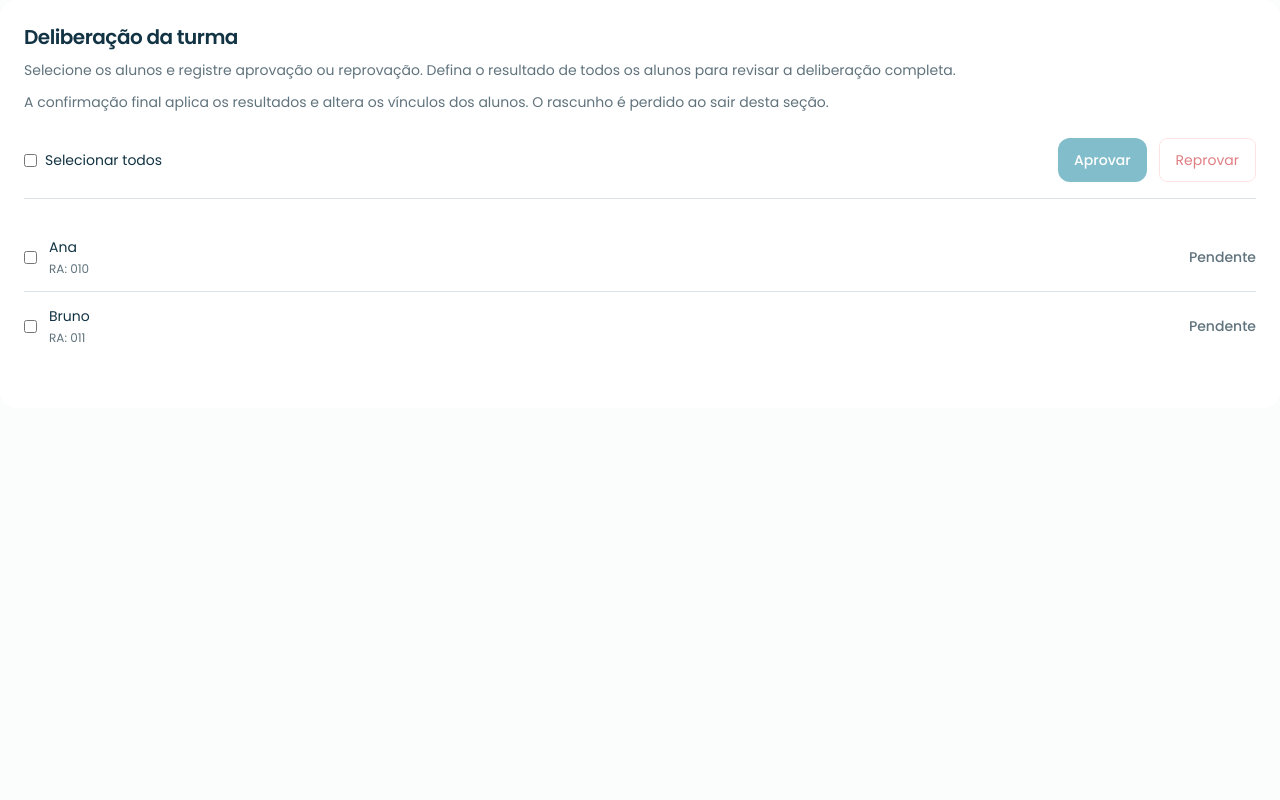
Scenario: lista destinos sem schoolId no contrato da API (both)
The width and height of the screenshot is (1280, 800).
Click the checkbox labelled "Selecionar todos" at (30, 160), box top-left (24, 154), bottom-right (37, 166)
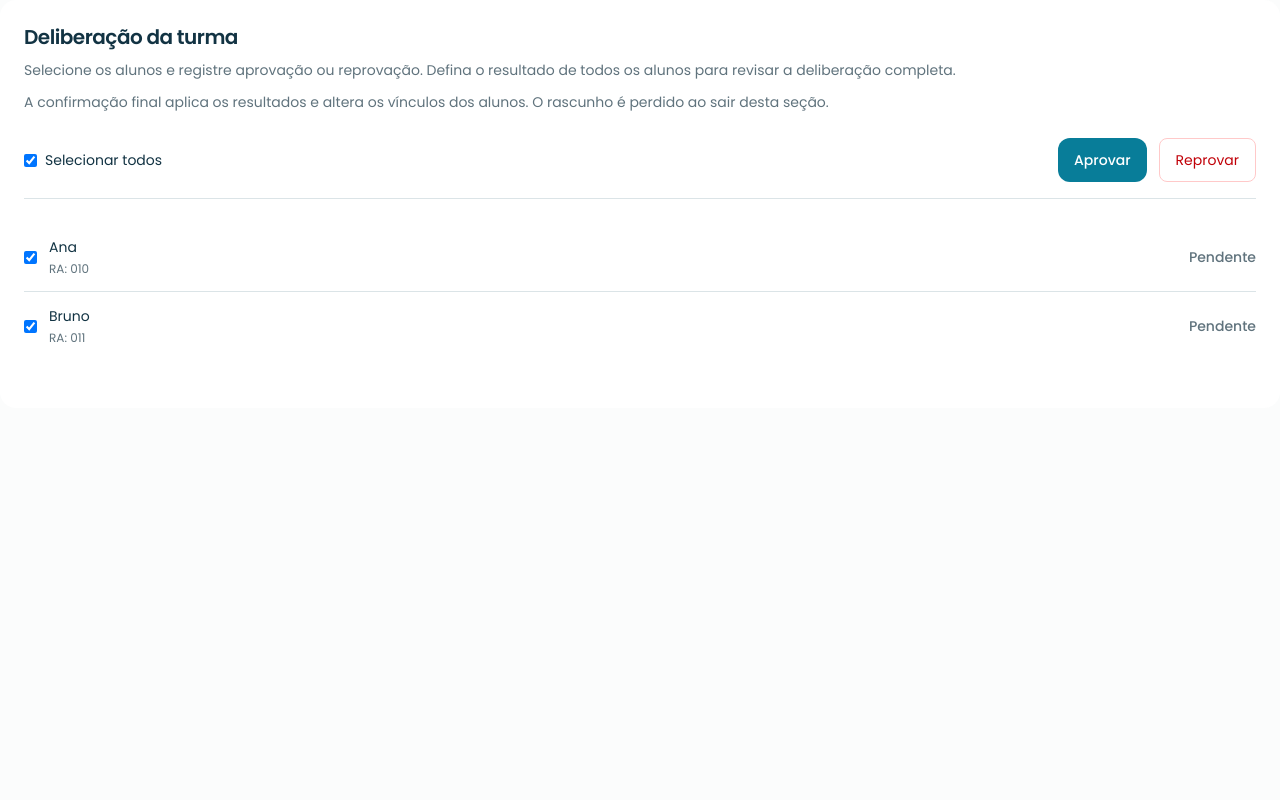
Click the button "Reprovar" at (1207, 160), box top-left (1159, 138), bottom-right (1256, 182)
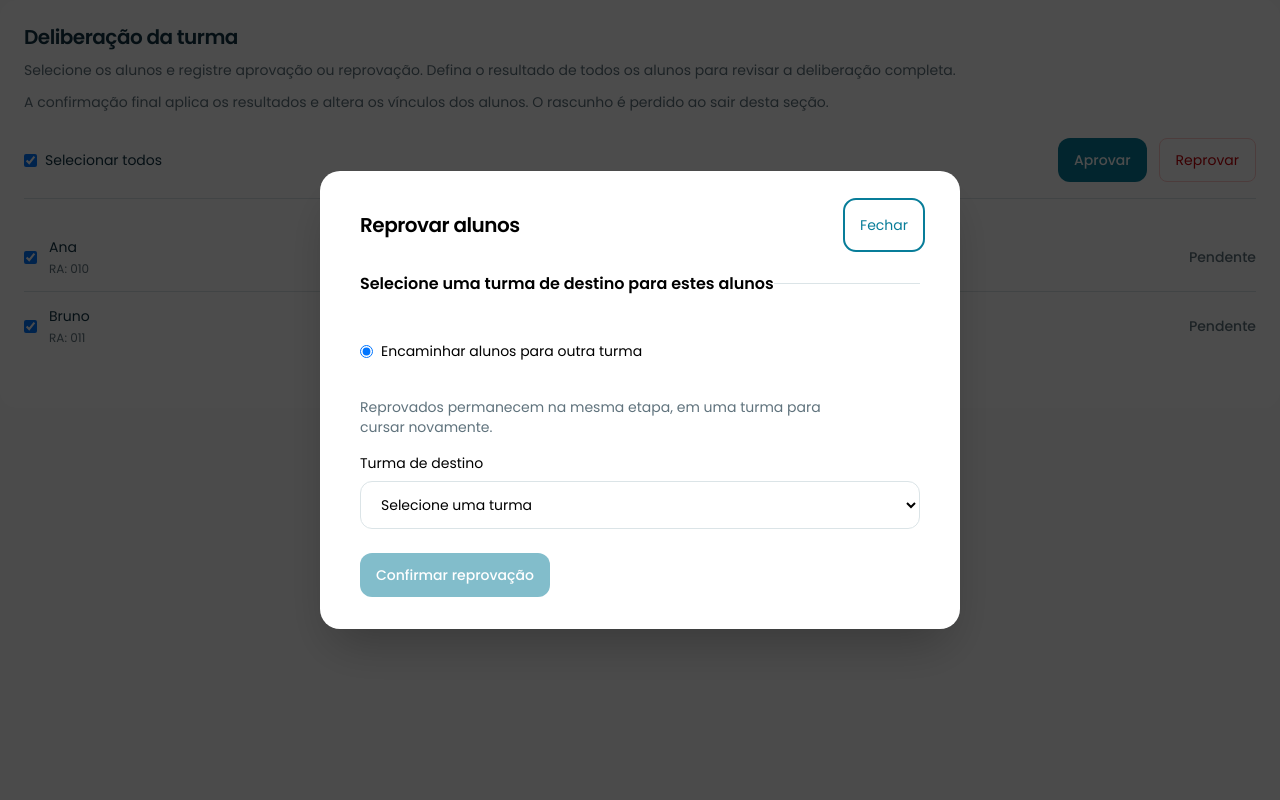
Select "2º ano · A" in the dropdown labelled "Turma de destino" at (640, 505), box top-left (360, 481), bottom-right (920, 529)
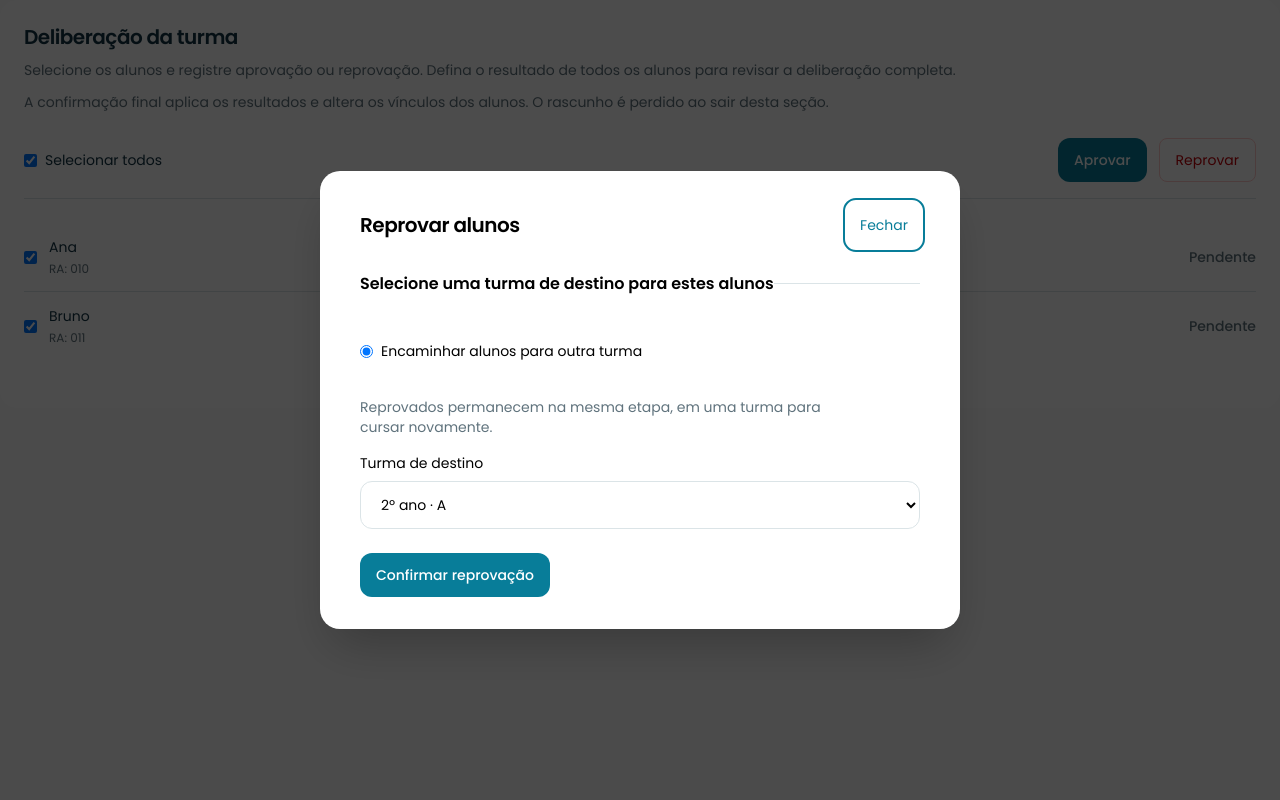
Click the button "Confirmar reprovação" at (455, 575), box top-left (360, 553), bottom-right (550, 597)
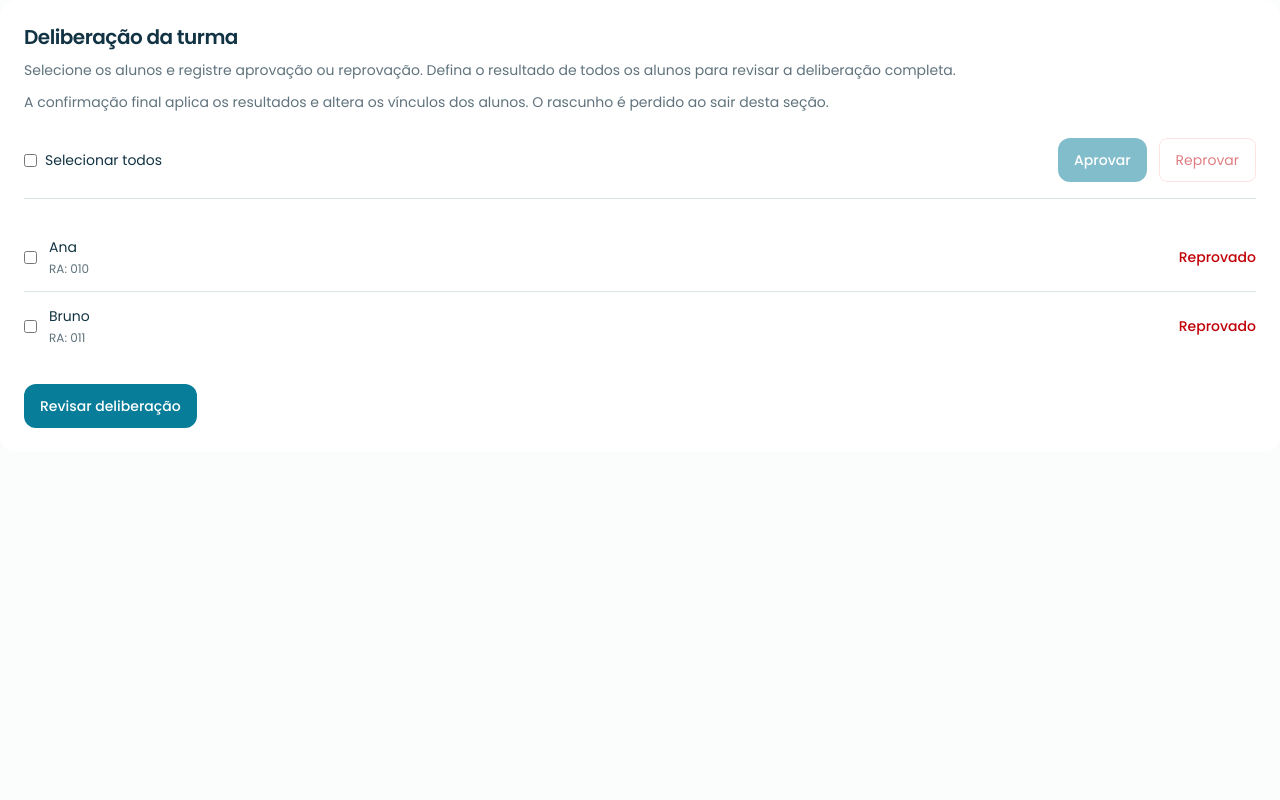
Click the button "Revisar deliberação" at (110, 406), box top-left (24, 384), bottom-right (197, 428)
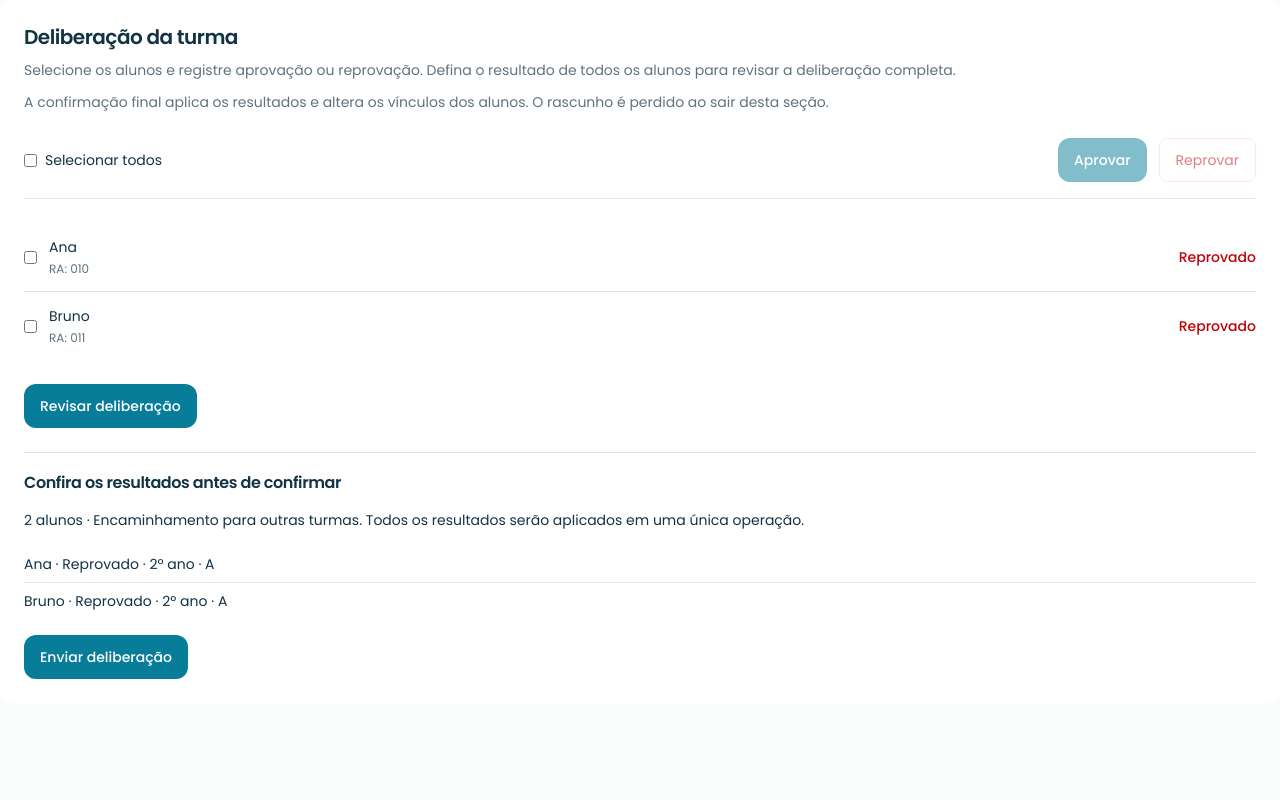
Now the element named "Revisão da deliberação" shows "2º ano · A", box top-left (149, 554), bottom-right (215, 574)
